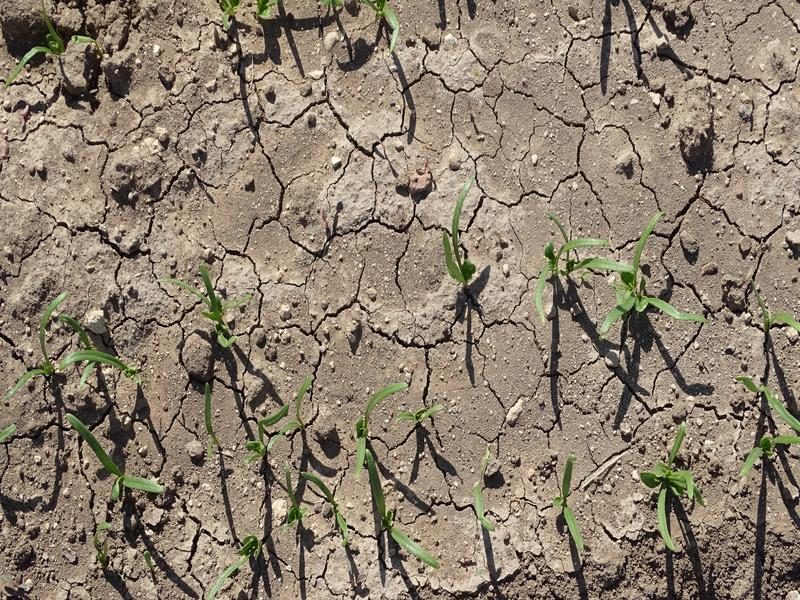Espinaca: (526, 215, 705, 330), (4, 291, 133, 399), (62, 409, 164, 497), (159, 263, 242, 350), (736, 375, 800, 472), (346, 380, 409, 475), (237, 375, 314, 449), (274, 465, 349, 537), (647, 426, 690, 551), (440, 172, 478, 284), (206, 532, 262, 595), (376, 510, 436, 567), (557, 458, 588, 560), (471, 483, 495, 534)
